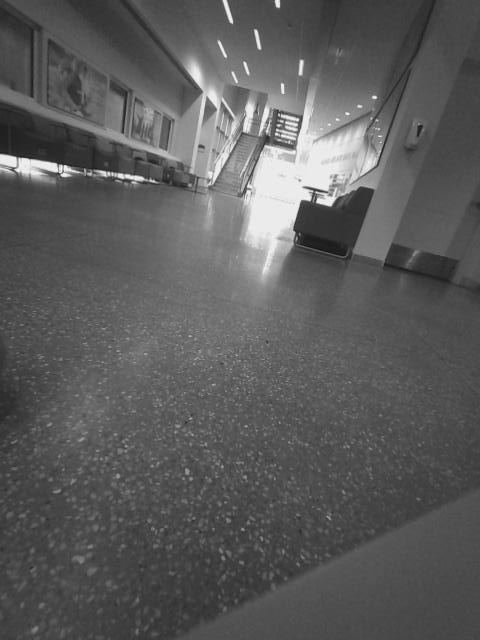ball: (295, 262, 345, 308)
